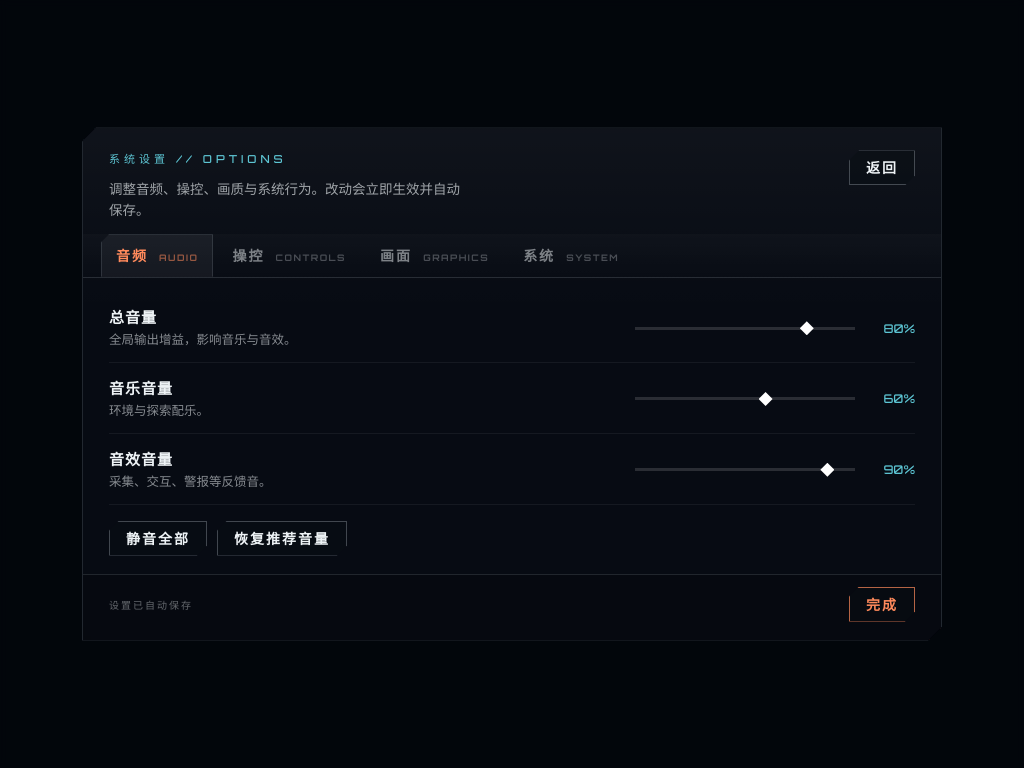
SettingsScreen › exposes touch sensitivity and autosave controls
Click the tab with class "opts-tab" showing "操控 CONTROLS" at point(289, 256), box [218,234,361,277]
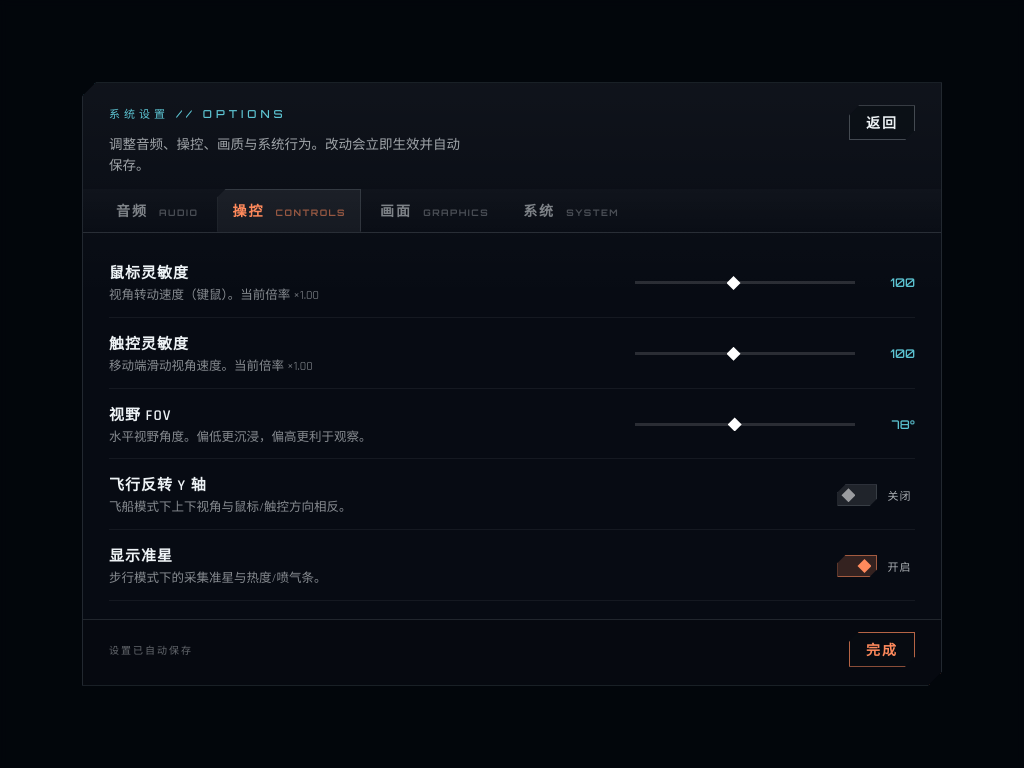
Check: the text "触控灵敏度" is shown, box [109,335,189,354]
Click the tab with class "opts-tab" showing "系统 SYSTEM" at point(571, 210), box [508,189,634,232]
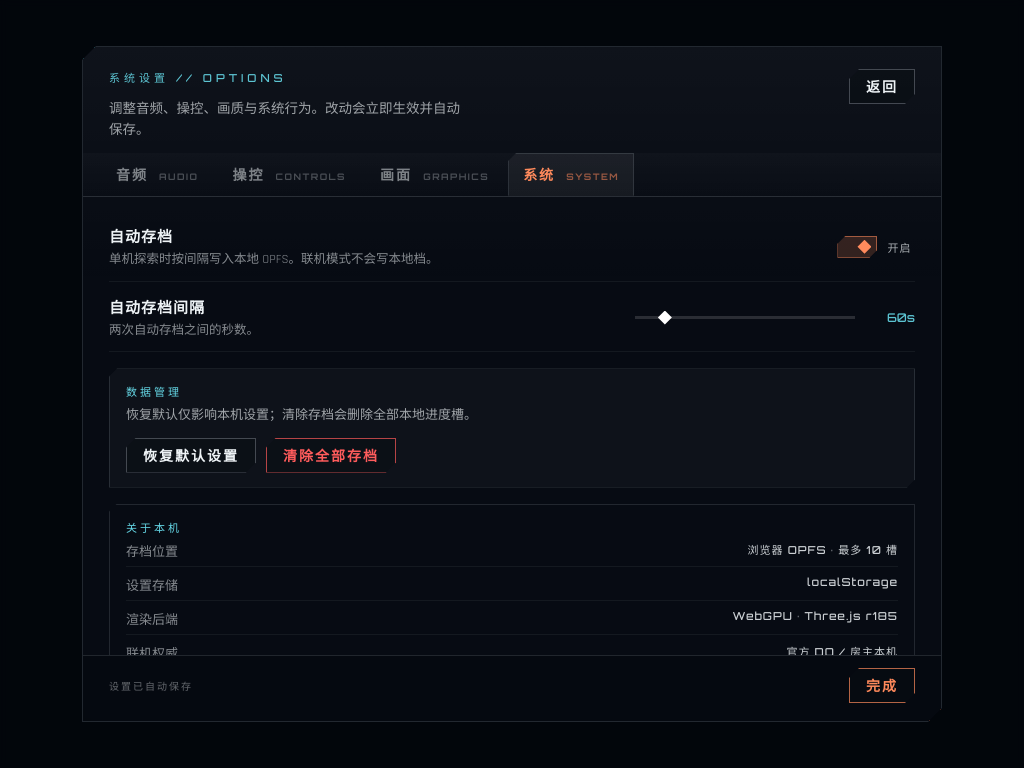
Check: the text "自动存档" is shown, box [109,228,173,247]
